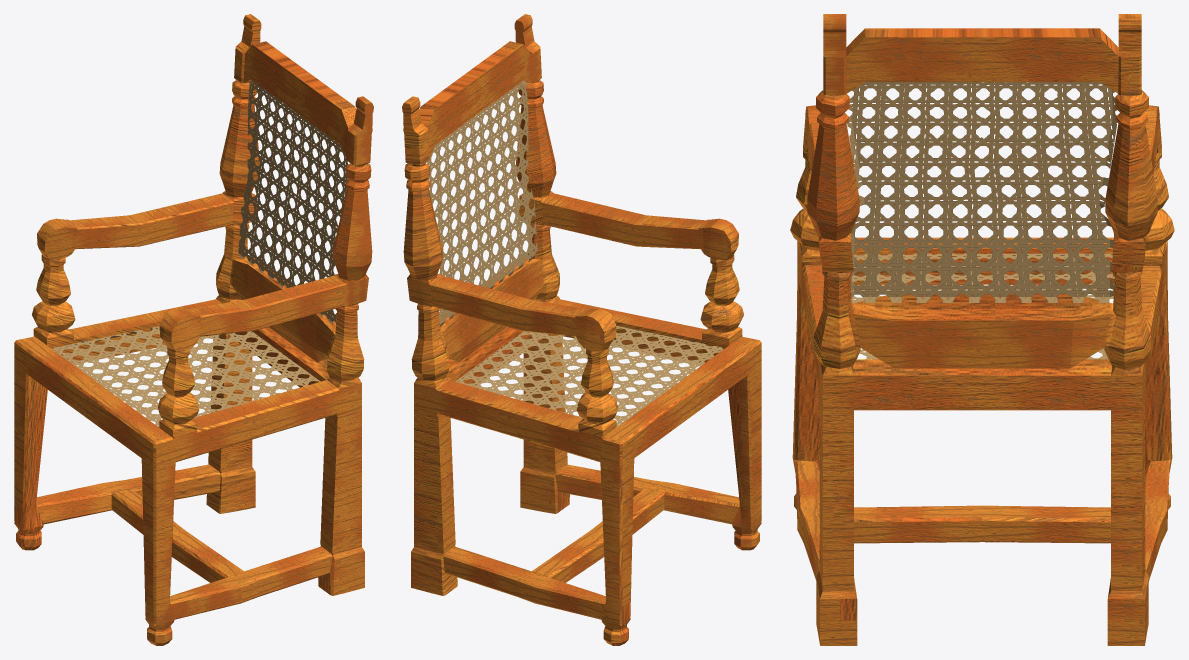
Rendered from EN_DiningChair_01.fbx.
3 views of the same model, side by side, from view 1: azimuth 30°, elevation 25°; view 2: azimuth 150°, elevation 25°; view 3: azimuth 270°, elevation 25° (orthographic). The views are drawn at different scales.
Visible parts, largest first — view 1: polySurface4; view 2: polySurface4; view 3: polySurface4.
Part boxes in pixels (x1,y1,x2,y2): polySurface4: [14, 14, 373, 645]; polySurface4: [402, 14, 761, 645]; polySurface4: [790, 14, 1174, 645].
Size of the model in its own units: 1.05 by 2.09 by 1.15.
